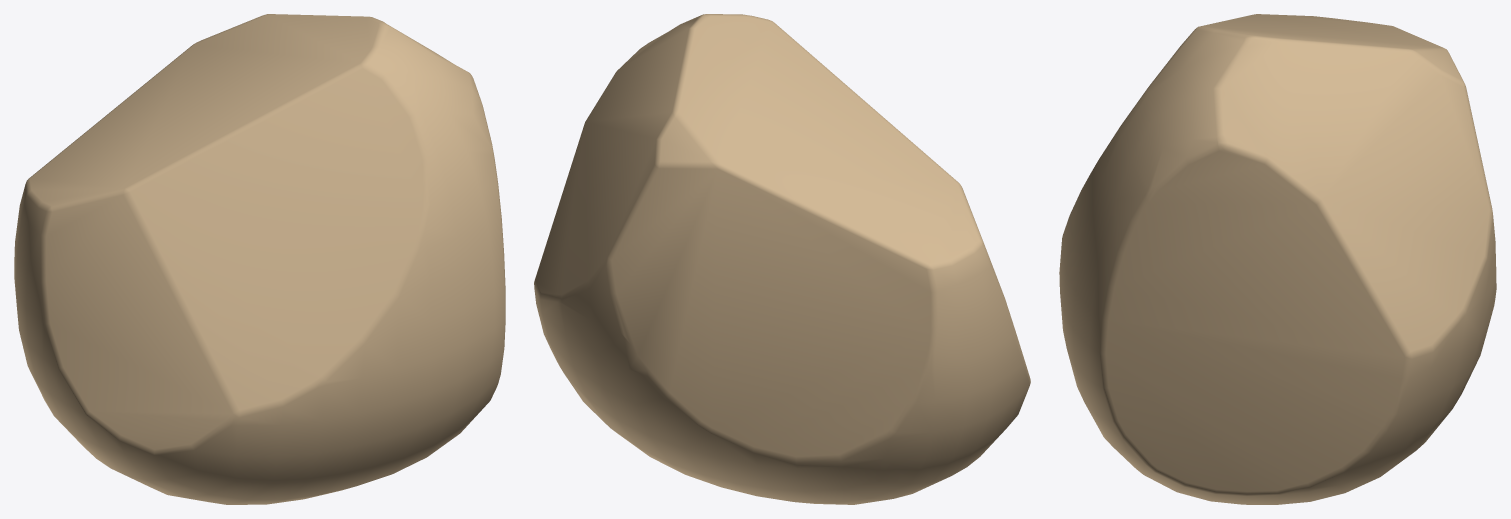
Rendered from rock_boulder_05.glb.
The picture shows the model from 3 angles, left to right: view 1: azimuth 30°, elevation 25°; view 2: azimuth 150°, elevation 25°; view 3: azimuth 270°, elevation 25°; orthographic projection. The views are drawn at different scales.
Visible parts, largest first — view 1: rock_boulder_05; view 2: rock_boulder_05; view 3: rock_boulder_05.
Part boxes in pixels (x1,y1,x2,y2): rock_boulder_05: (14,14,505,504); rock_boulder_05: (534,14,1030,504); rock_boulder_05: (1059,14,1496,504).
Bounding box in the file's own units: 2.5 × 2.43 × 2.01.
